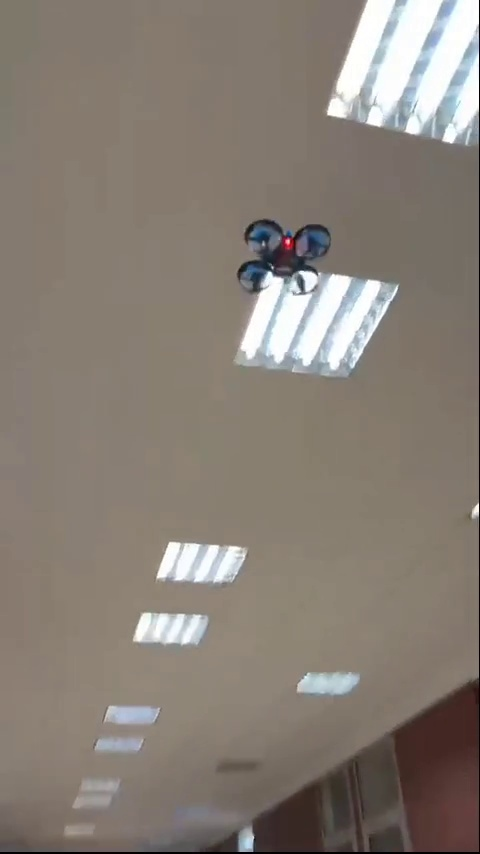drone: (239, 223, 333, 294)
